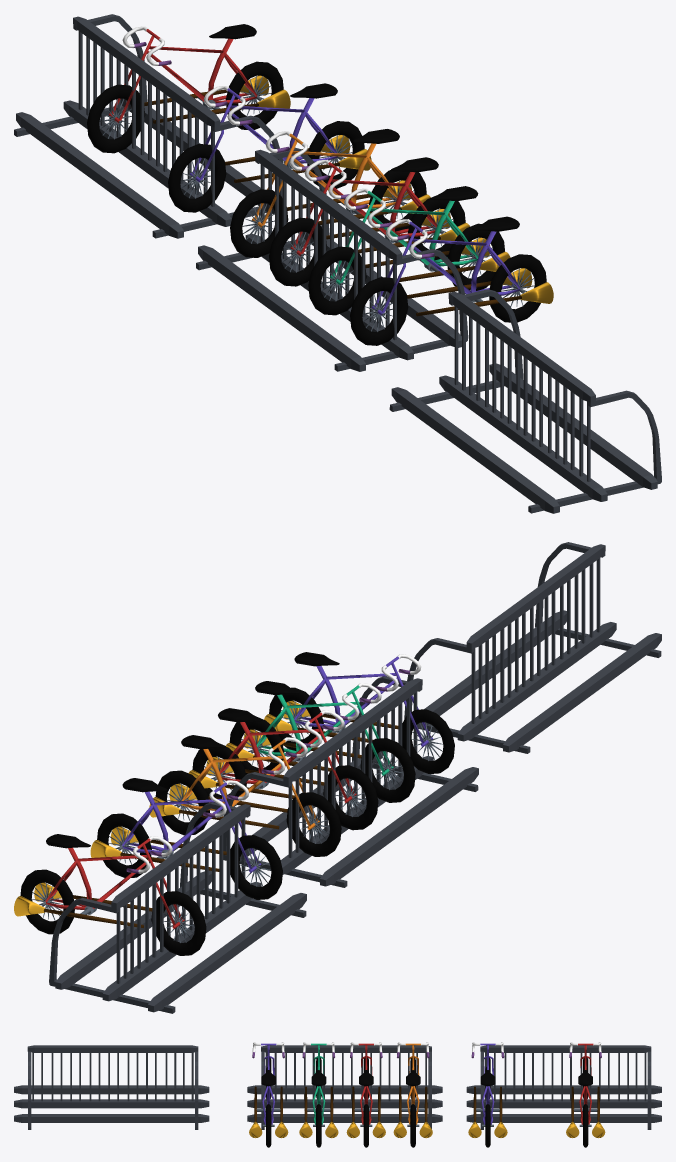
Rendered from BikeRacks.fbx_Meshes.fbx.
The picture shows the model from 3 angles, top to bottom: view 1: azimuth 30°, elevation 25°; view 2: azimuth 150°, elevation 25°; view 3: azimuth 270°, elevation 25°; orthographic projection. The views are drawn at different scales.
Parts seen in each view (by area): view 1: Rack (Full), Rack (Half-full), Rack (Empty); view 2: Rack (Full), Rack (Half-full), Rack (Empty); view 3: Rack (Full), Rack (Half-full), Rack (Empty).
Boxes of the visible parts, x1=… form: Rack (Full): x1=196, y1=129, x2=553, y2=371; Rack (Half-full): x1=14, y1=14, x2=371, y2=238; Rack (Empty): x1=389, y1=289, x2=661, y2=513; Rack (Full): x1=149, y1=652, x2=478, y2=887; Rack (Half-full): x1=14, y1=778, x2=306, y2=1013; Rack (Empty): x1=404, y1=542, x2=661, y2=753; Rack (Full): x1=247, y1=1042, x2=442, y2=1147; Rack (Half-full): x1=466, y1=1042, x2=661, y2=1147; Rack (Empty): x1=14, y1=1045, x2=209, y2=1129.
Bounding box in the file's own units: 476 × 259 × 2059.
